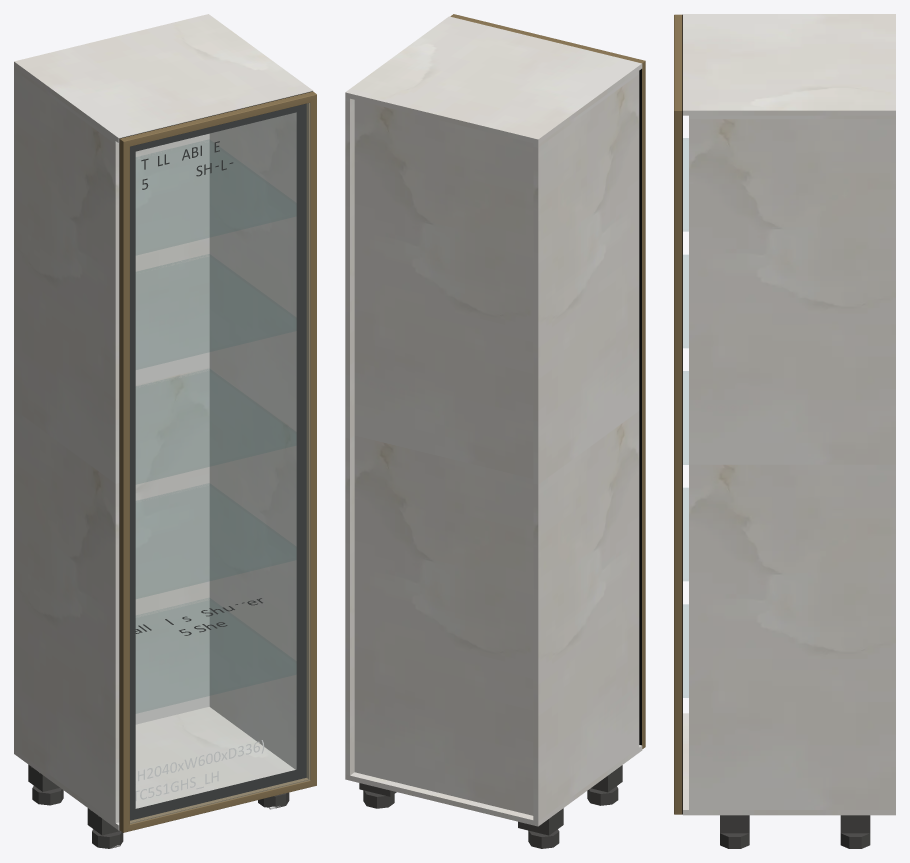
The model's file is TC5GS1GHS_LH (H2040xW600xD560).glb.
3 renders of one model, left to right at view 1: azimuth 30°, elevation 25°; view 2: azimuth 150°, elevation 25°; view 3: azimuth 270°, elevation 25°, orthographic. The views are drawn at different scales.
Size of what is drawn, in the model's own units: 0.6 by 2.14 by 0.582.
Materials: 9 (1 with a texture image).
